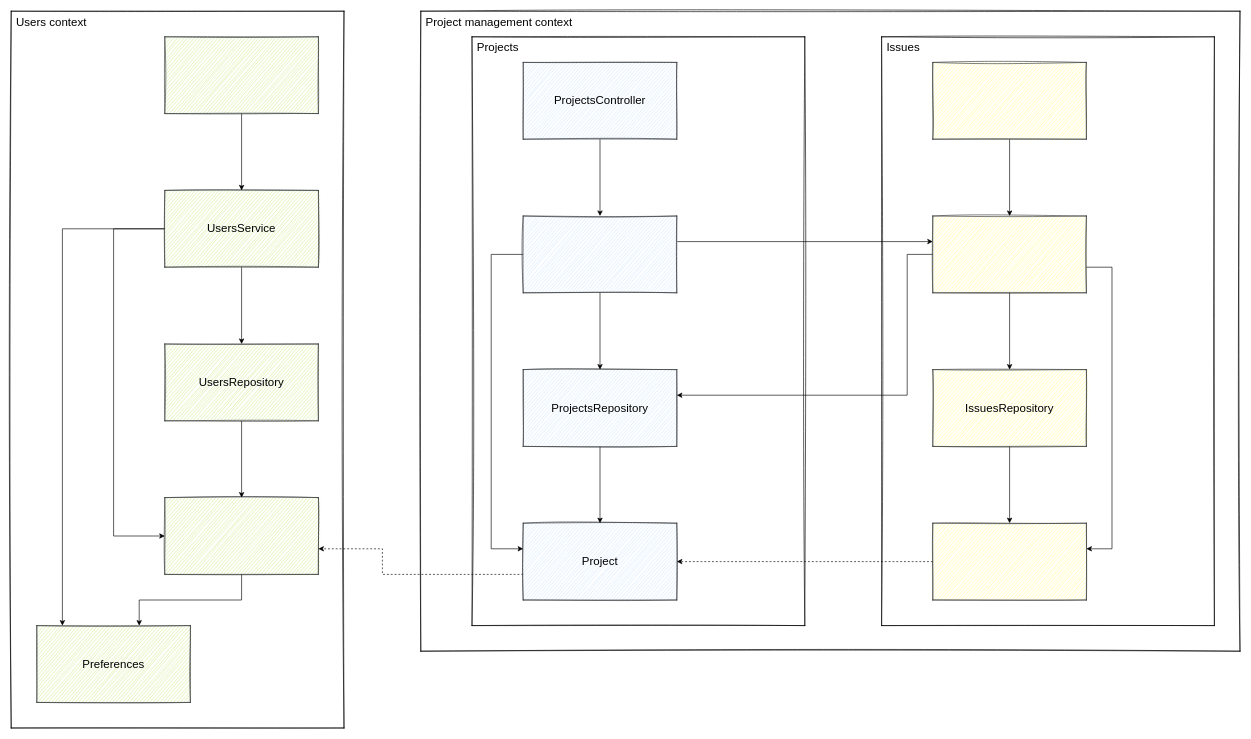
Image size: 1251x739. Some labels were removed from this diagram. Each missing label, with the centre of its shape:
Issue: the point at 1009,561
IssuesController: the point at 1009,100
IssuesService: the point at 1009,254
ProjectsService: the point at 600,254
User: the point at 241,535
UsersController: the point at 241,75
